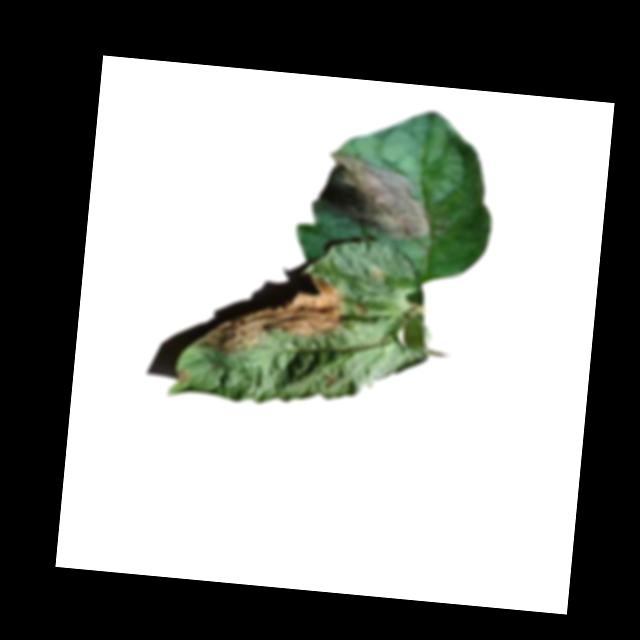Late_blight: (196, 264, 348, 365), (309, 148, 438, 245), (175, 366, 193, 385)
